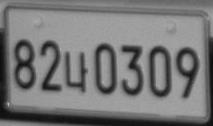0: (148, 44, 172, 98), (94, 42, 117, 95)
2: (39, 39, 62, 91)
3: (120, 44, 144, 96)
8: (13, 38, 36, 90)
9: (174, 46, 200, 99)
나: (63, 50, 89, 93)
